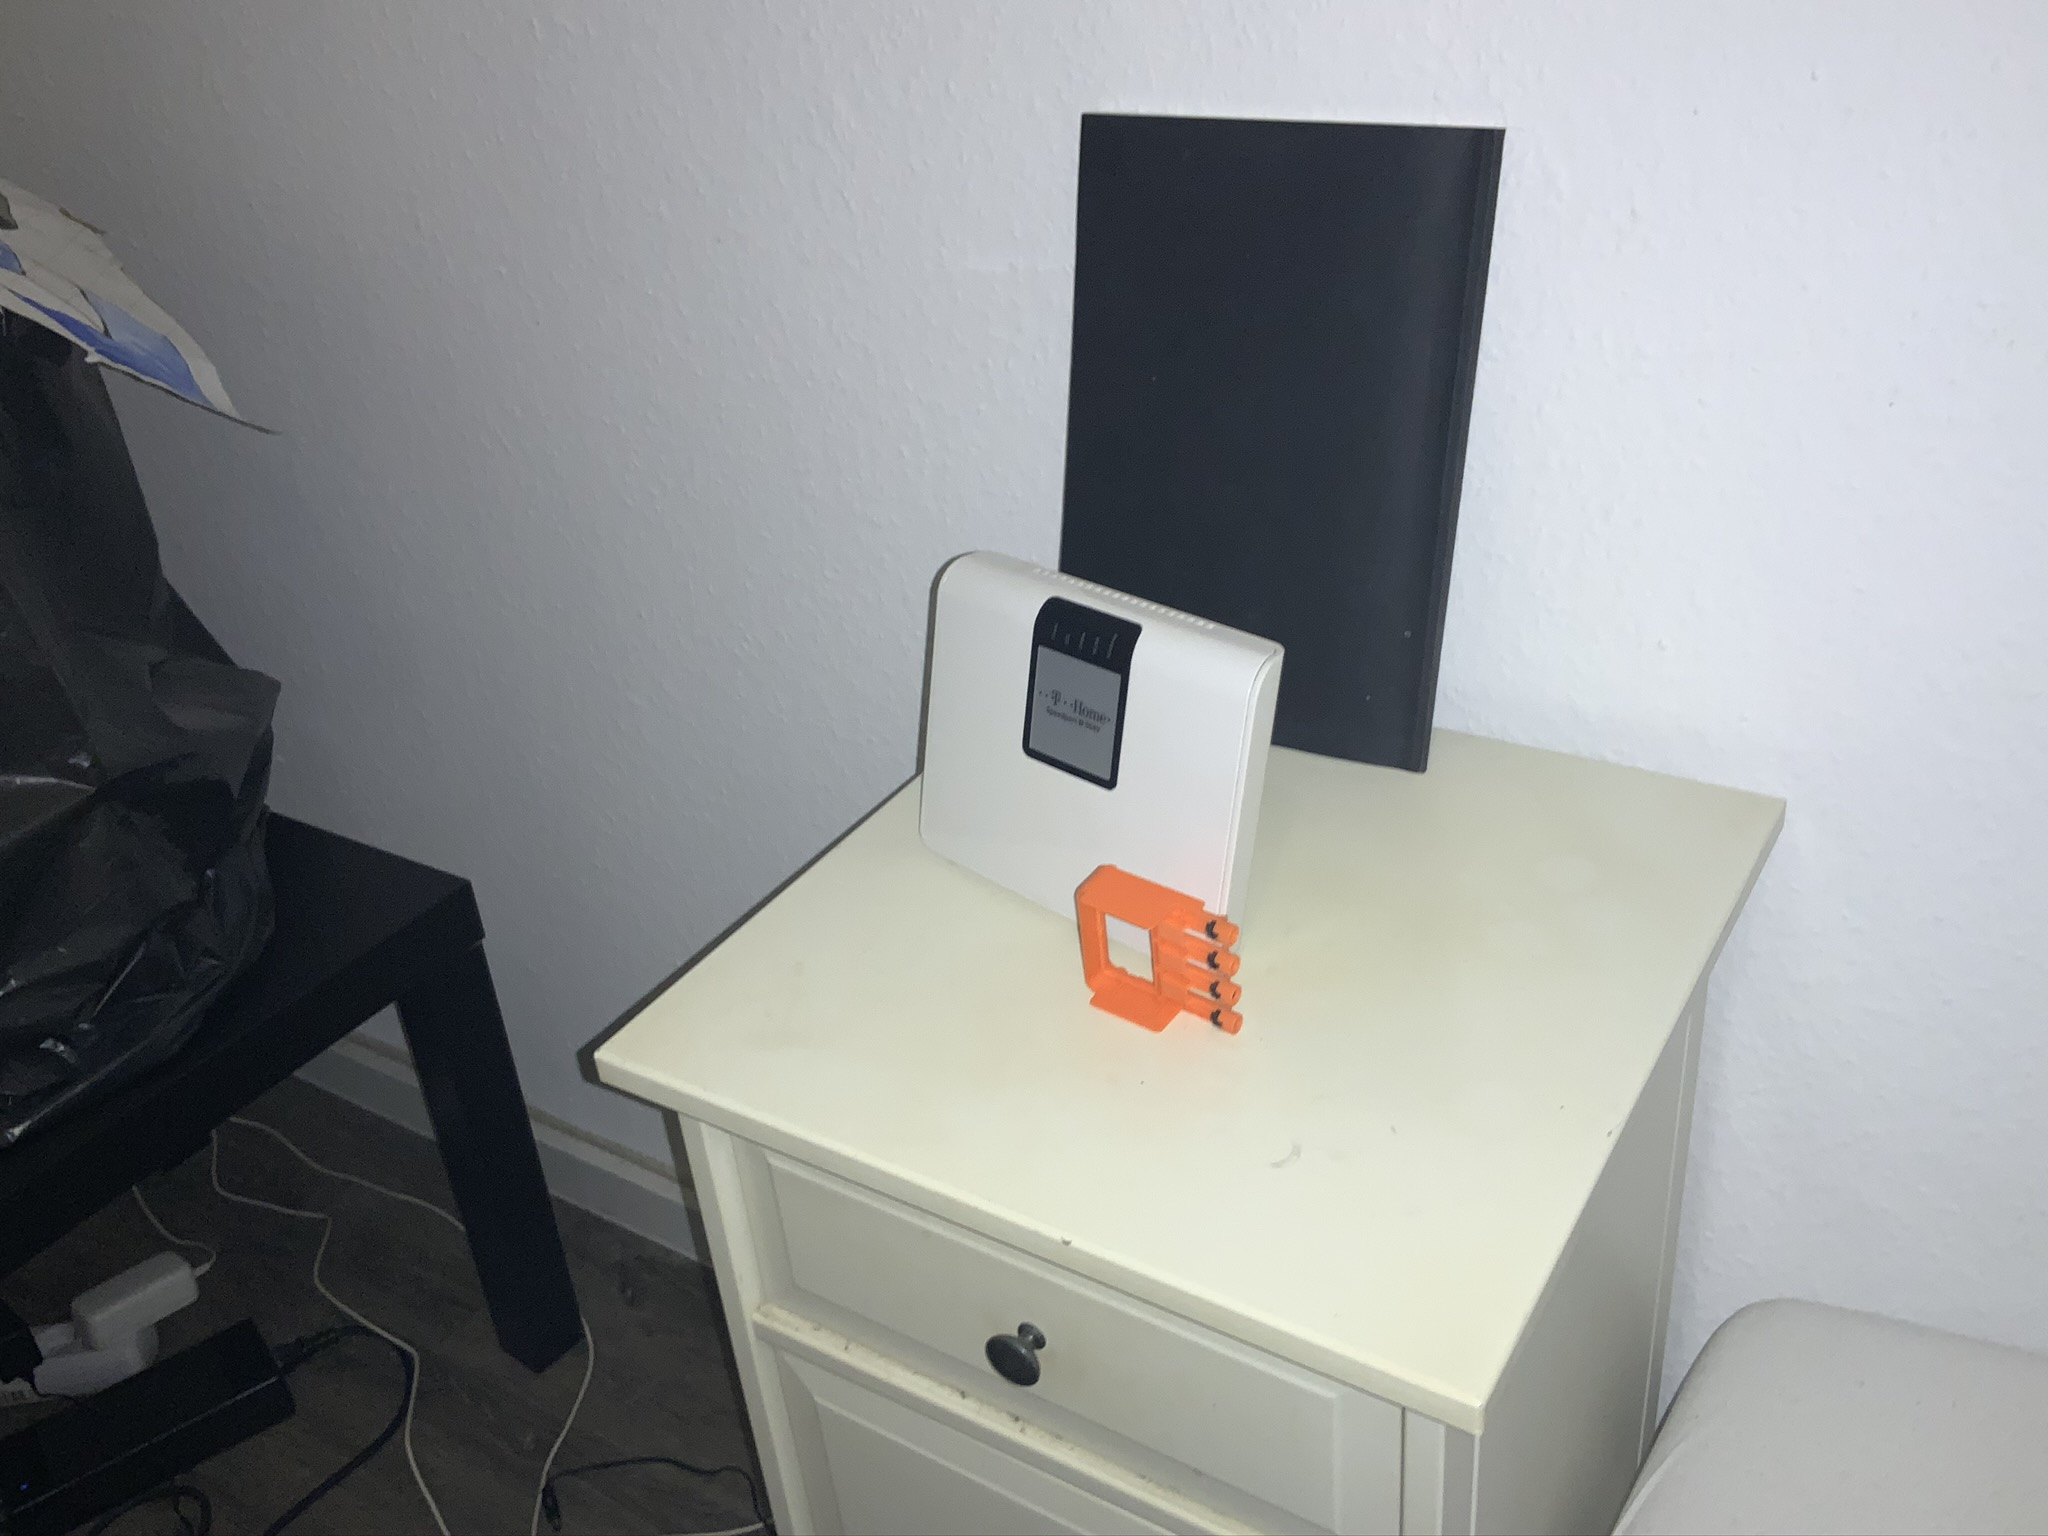Router2: (914, 541, 1295, 965)
